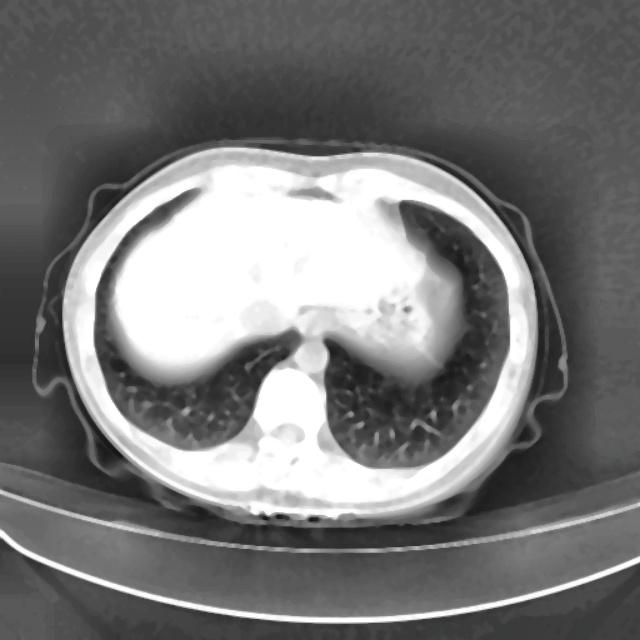covid: (44, 138, 566, 528)
